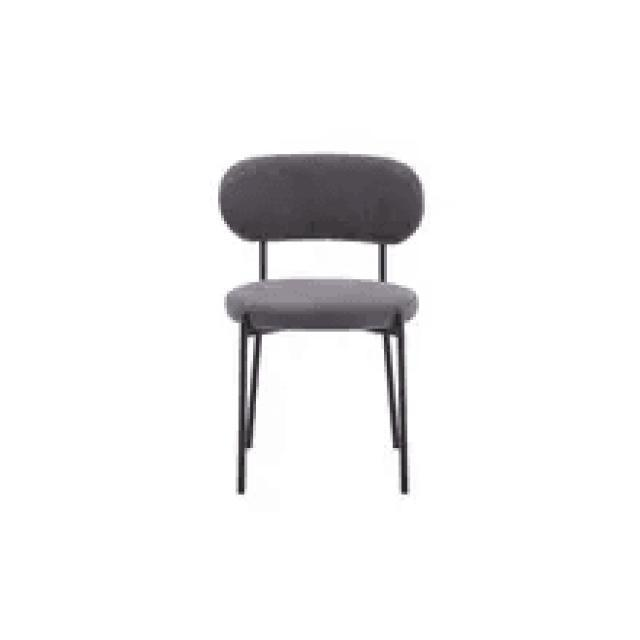chair: (220, 143, 426, 503), (218, 153, 424, 329)
